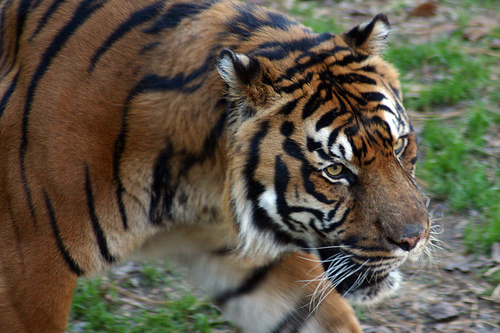Tigre: (11, 1, 452, 331)
